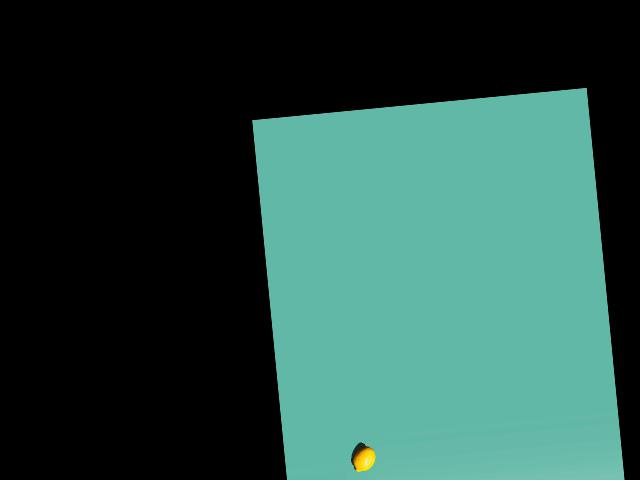lemon: (347, 439, 376, 474)
